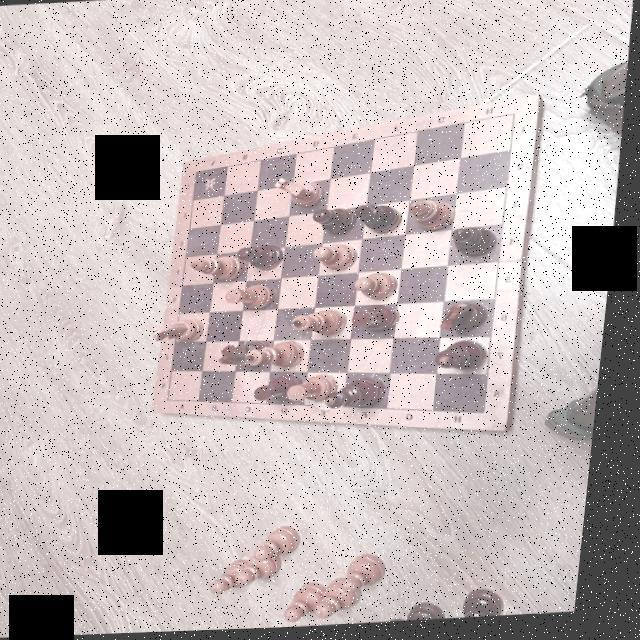chess-table-corners: (509, 112, 523, 124), (485, 412, 497, 421), (170, 397, 180, 406), (194, 172, 204, 176)
